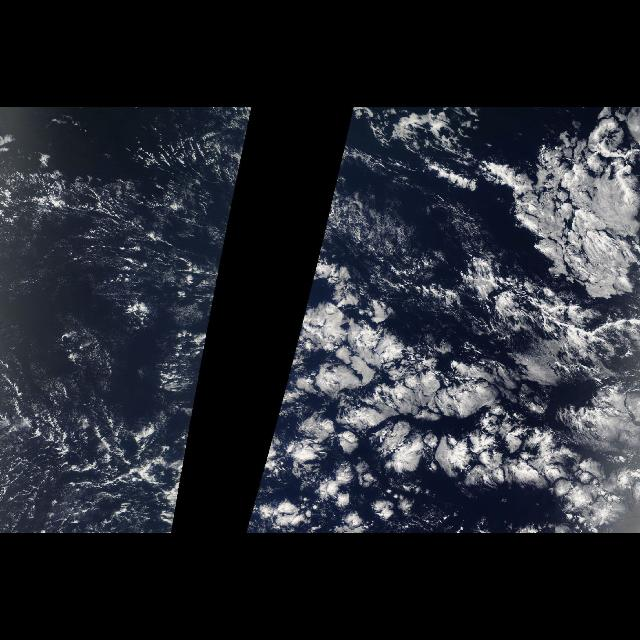Flower: (264, 297, 536, 527)
Sugar: (81, 129, 247, 267), (315, 129, 437, 267)
